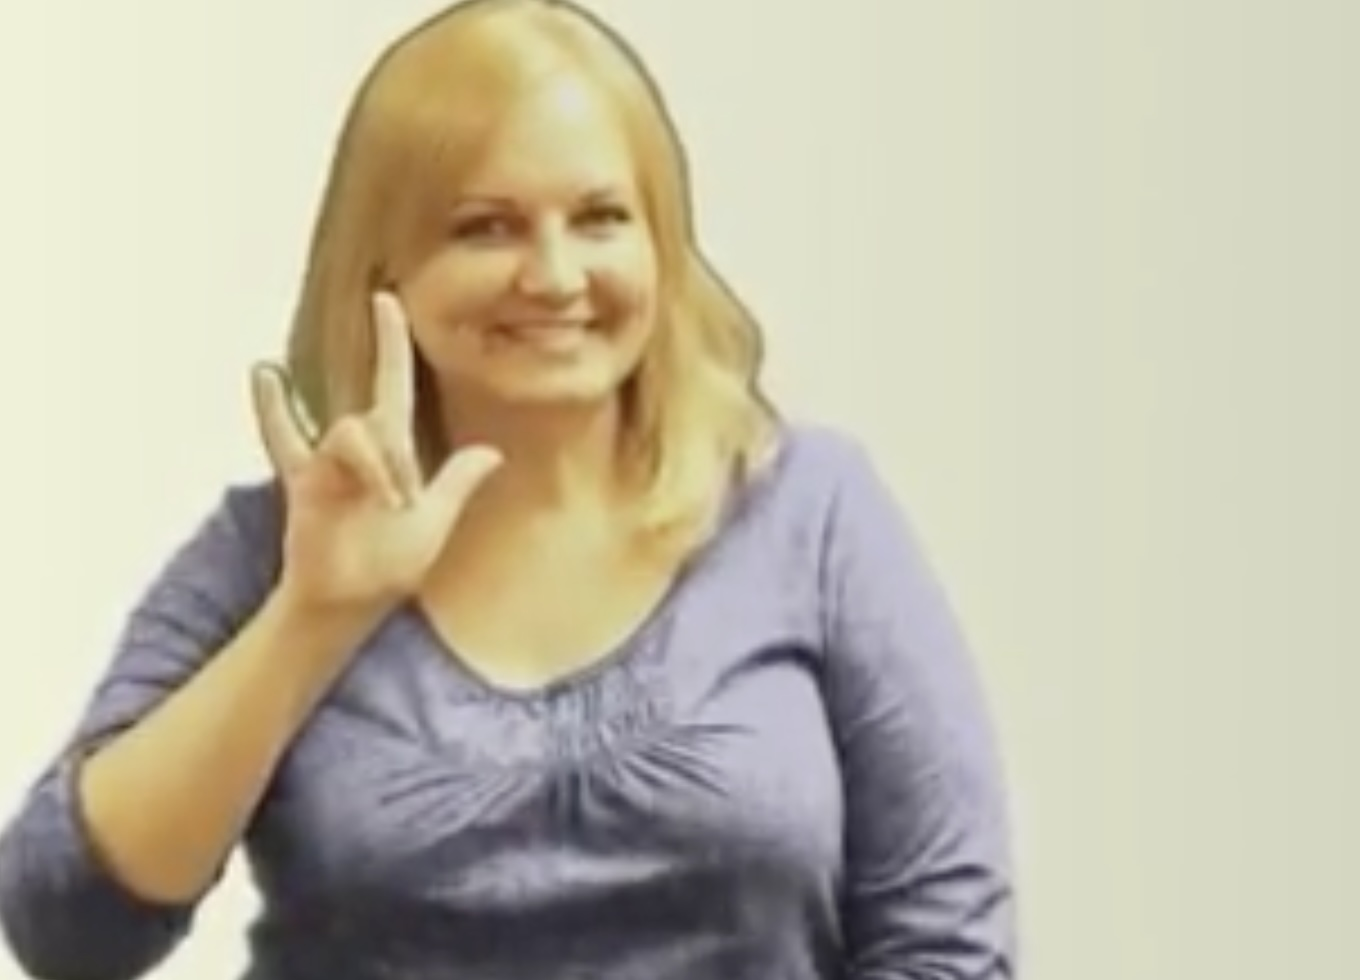loveyou: (194, 288, 526, 605)
